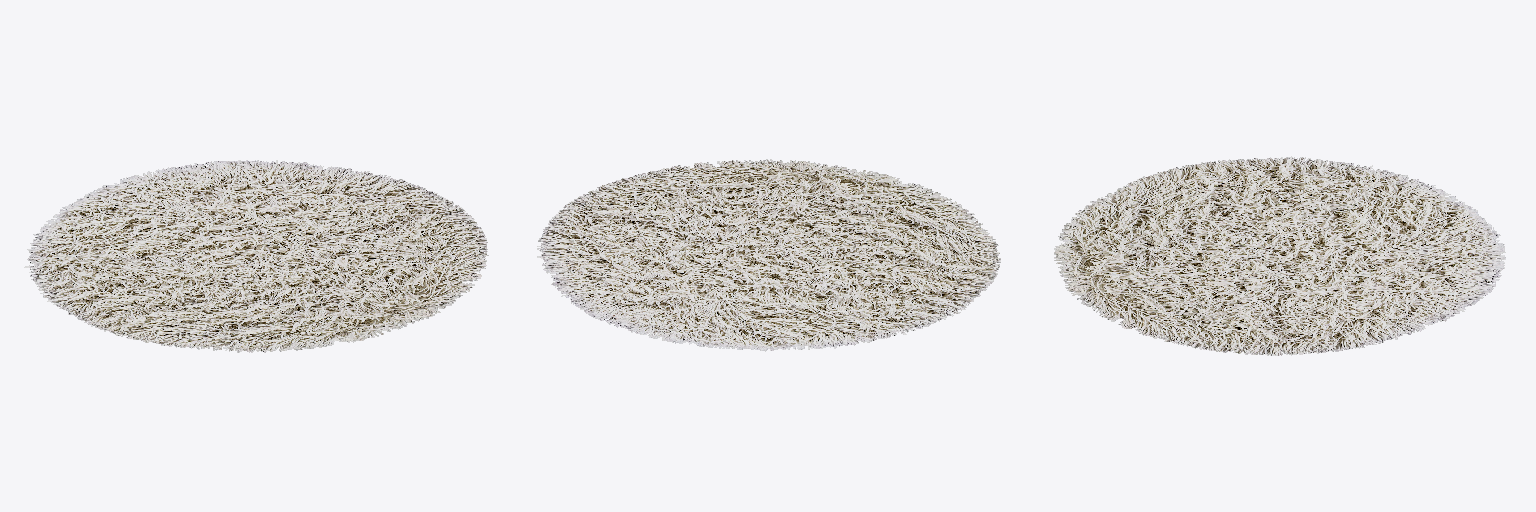
3 renders of one model, left to right at view 1: azimuth 30°, elevation 25°; view 2: azimuth 150°, elevation 25°; view 3: azimuth 270°, elevation 25°, orthographic.
Parts seen in each view (by area): view 1: Mesh2 Group1 G_23313_1 Model, Mesh1 Group1 G_23313_1 Model; view 2: Mesh2 Group1 G_23313_1 Model; view 3: Mesh2 Group1 G_23313_1 Model.
Part boxes in pixels (x1,y1,x2,y2): Mesh2 Group1 G_23313_1 Model: (25, 160, 486, 351); Mesh1 Group1 G_23313_1 Model: (24, 162, 488, 352); Mesh2 Group1 G_23313_1 Model: (537, 159, 1000, 350); Mesh2 Group1 G_23313_1 Model: (1054, 156, 1505, 354).
Size of the model in its own units: 256 by 0.3937 by 246.
1 materials, 1 textured.